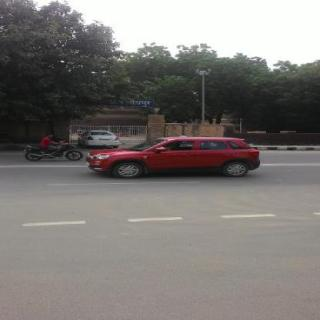Normal_vehicle: (85, 137, 259, 178)
